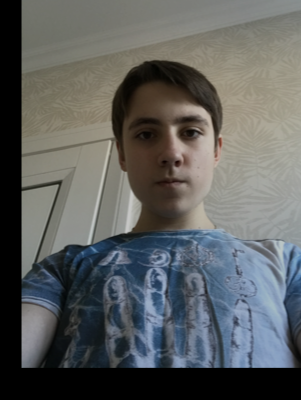without_mask: (123, 108, 214, 217)
